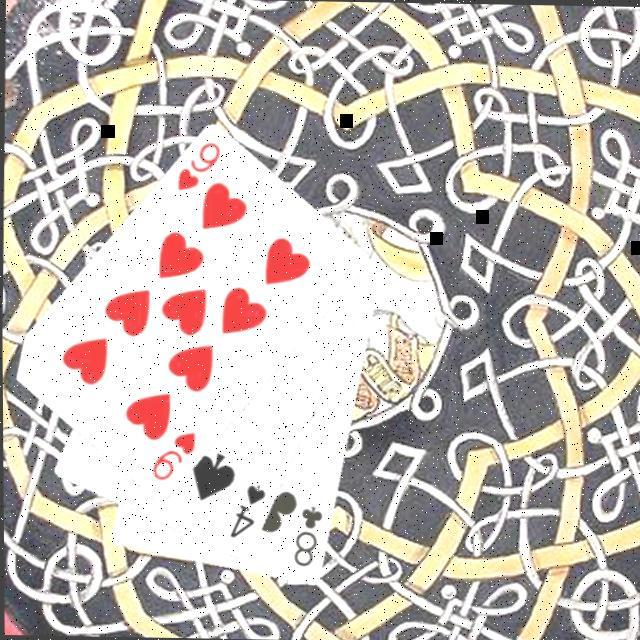4S: (225, 482, 268, 542)
8C: (288, 502, 324, 572)
9H: (146, 429, 197, 486), (172, 140, 222, 197)
